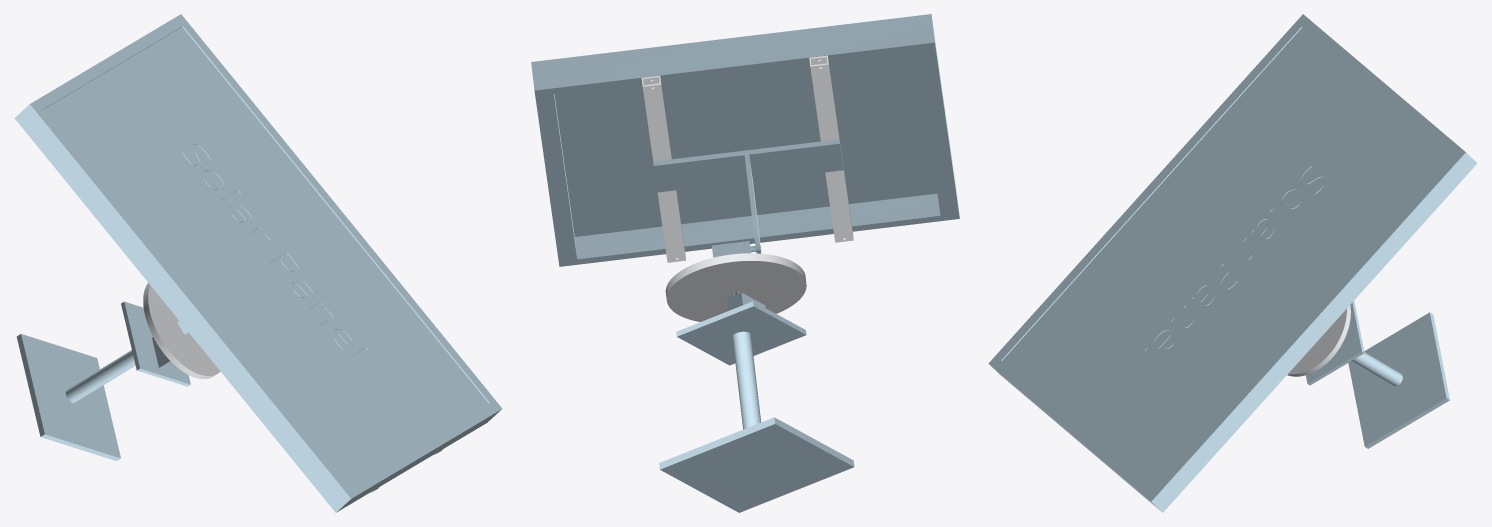
3 views of the same model, side by side, from view 1: azimuth 30°, elevation 25°; view 2: azimuth 150°, elevation 25°; view 3: azimuth 270°, elevation 25° (orthographic). The views are drawn at different scales.
Visible parts, largest first — view 1: mesh52, mesh32, mesh47, mesh12, mesh0, mesh11, mesh5, mesh50, mesh33, mesh1, mesh15; view 2: mesh40, mesh35, mesh31, mesh14, mesh37, mesh2, mesh6, mesh247.001, mesh247, mesh262, mesh256, mesh5 (+4 smaller); view 3: mesh52, mesh47, mesh34, mesh12, mesh0, mesh11, mesh5, mesh48.
Boxes of the visible parts, box(x1,y1,x2,y2) form: mesh52: box(43, 27, 488, 486); mesh32: box(14, 104, 350, 512); mesh47: box(30, 14, 502, 498); mesh12: box(21, 334, 120, 458); mesh0: box(148, 285, 220, 375); mesh11: box(124, 301, 190, 384); mesh5: box(65, 350, 135, 402); mesh50: box(182, 26, 489, 403); mesh33: box(336, 409, 501, 512); mesh1: box(143, 283, 215, 378); mesh15: box(16, 334, 44, 436); mesh40: box(554, 50, 937, 236); mesh35: box(531, 14, 934, 90); mesh31: box(534, 42, 959, 266); mesh14: box(660, 424, 853, 512); mesh37: box(574, 193, 940, 259); mesh2: box(666, 261, 806, 321); mesh6: box(677, 306, 805, 365); mesh247.001: box(810, 64, 853, 242); mesh247: box(642, 84, 685, 262); mesh262: box(749, 143, 843, 180); mesh256: box(653, 155, 747, 192); mesh5: box(732, 331, 760, 429); mesh52: box(1002, 27, 1452, 488); mesh47: box(988, 14, 1465, 501); mesh34: box(1151, 152, 1477, 512); mesh12: box(1348, 312, 1446, 446); mesh0: box(1288, 309, 1346, 374); mesh11: box(1306, 302, 1361, 383); mesh5: box(1352, 352, 1402, 386); mesh48: box(1001, 27, 1302, 360).
Bounding box in the file's own units: 0.5998 × 0.5926 × 0.6913.
